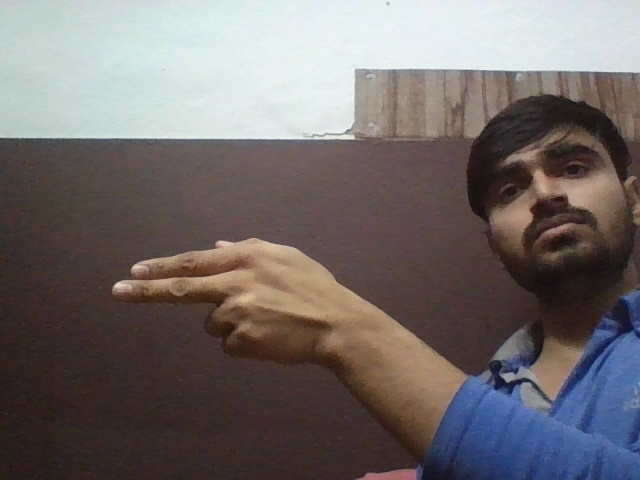H: (102, 233, 352, 375)
